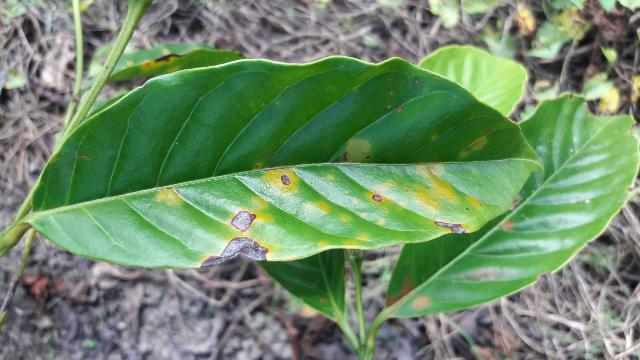rust_level_3: (26, 55, 542, 270)
